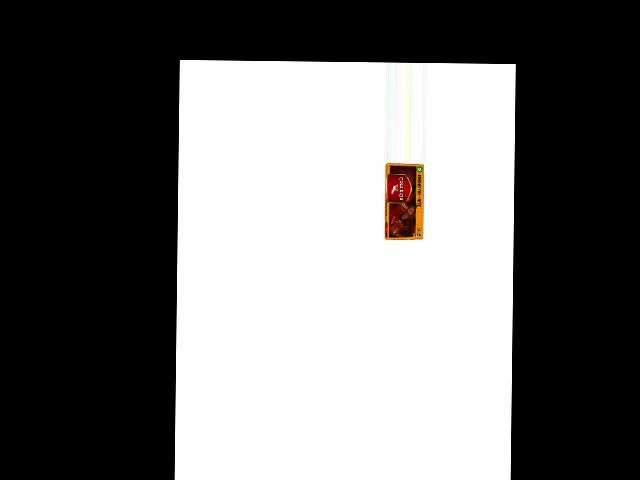chocolate: (382, 163, 430, 241)
